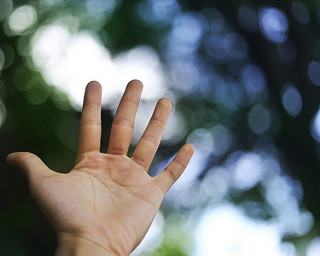palm: (62, 159, 149, 246)
